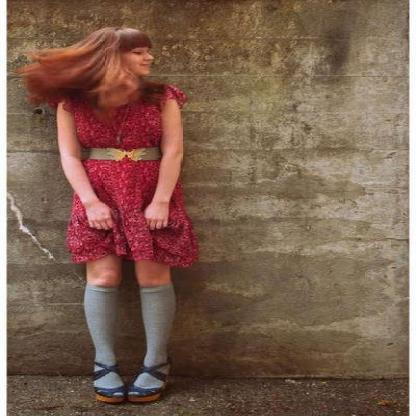dress: (62, 86, 198, 270)
shoe: (83, 358, 170, 407)
